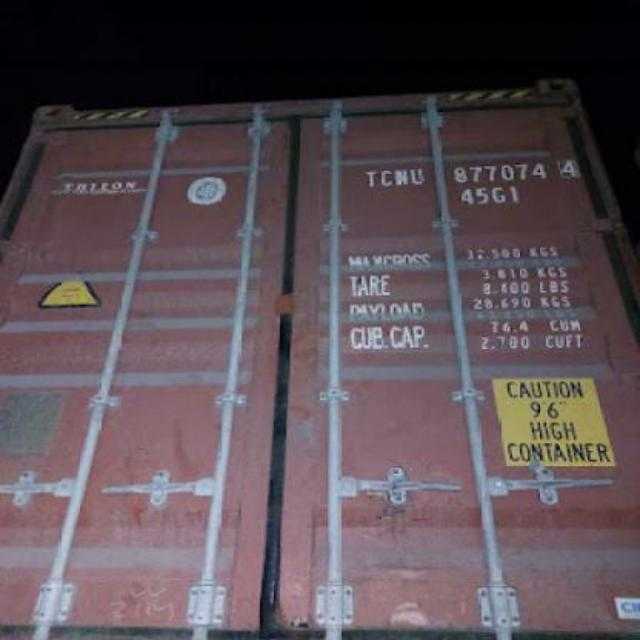0: (498, 160, 516, 182)
4: (556, 152, 584, 182), (530, 159, 550, 183)
7: (482, 158, 496, 186), (514, 160, 530, 183), (466, 162, 479, 186)
8: (452, 163, 466, 184)
C: (378, 164, 394, 192)
N: (394, 164, 410, 192)
T: (362, 163, 380, 190)
U: (410, 163, 426, 190)
